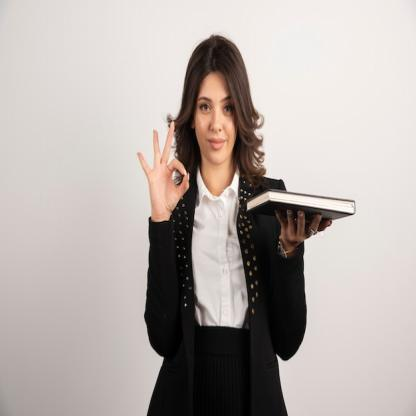ok: (136, 120, 190, 216)
